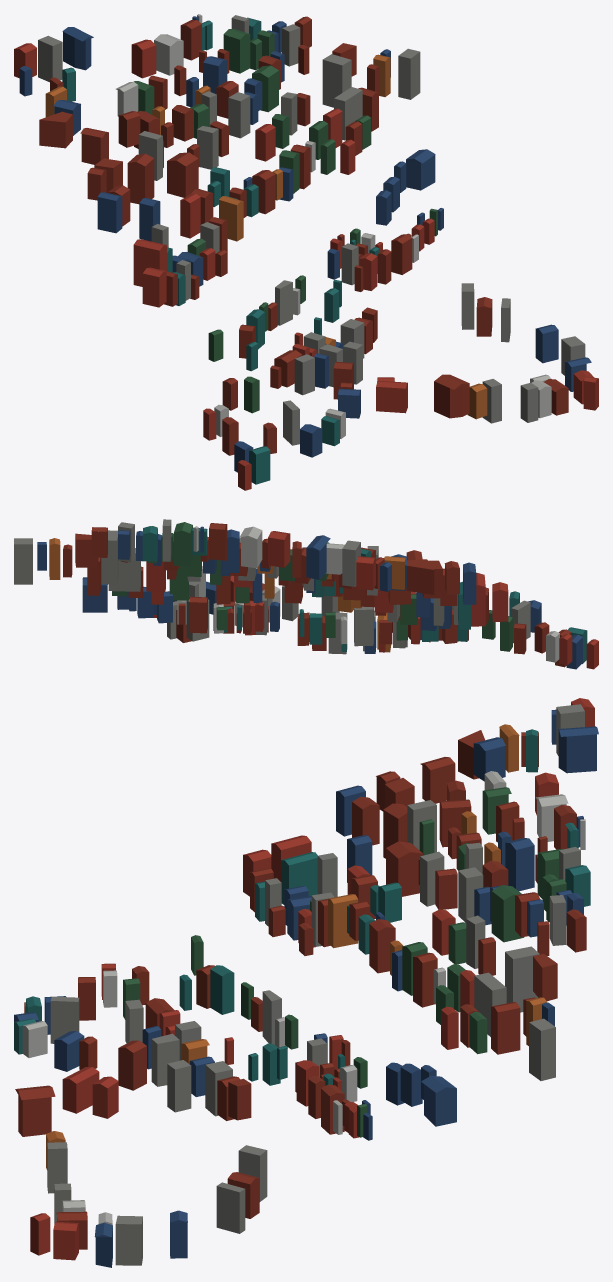
The model's file is near-17-109434-59477.67dfc6ba.glb.
3 views of the same model, one above another, from view 1: azimuth 30°, elevation 25°; view 2: azimuth 150°, elevation 25°; view 3: azimuth 270°, elevation 25° (orthographic). The views are drawn at different scales.
Bounding box in the file's own units: 297 × 206 × 304.
